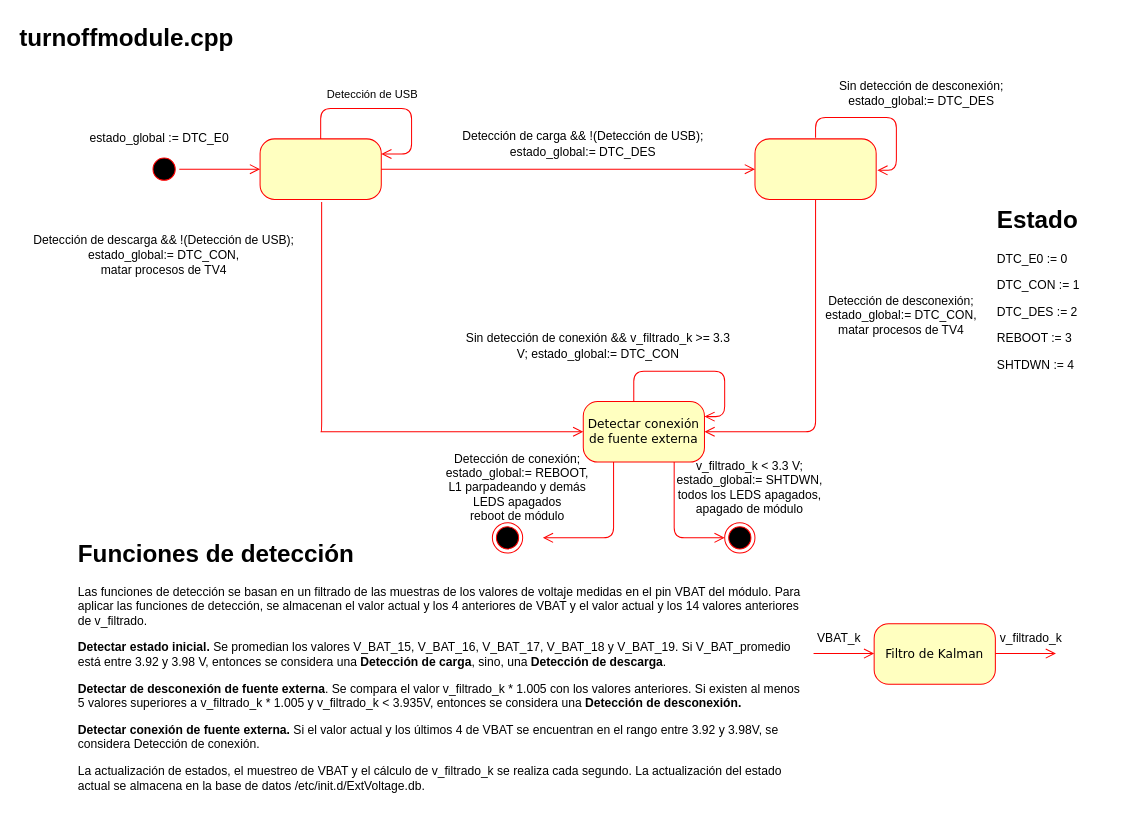
Some shapes in this 1123 by 825 pixel diagram are drawn without their labels. Each missing label, with the centre of its shape:
"Detectar desconexión de fuente externa" goes at (x=815, y=168).
"Detectar estado inicial" goes at (x=320, y=168).
